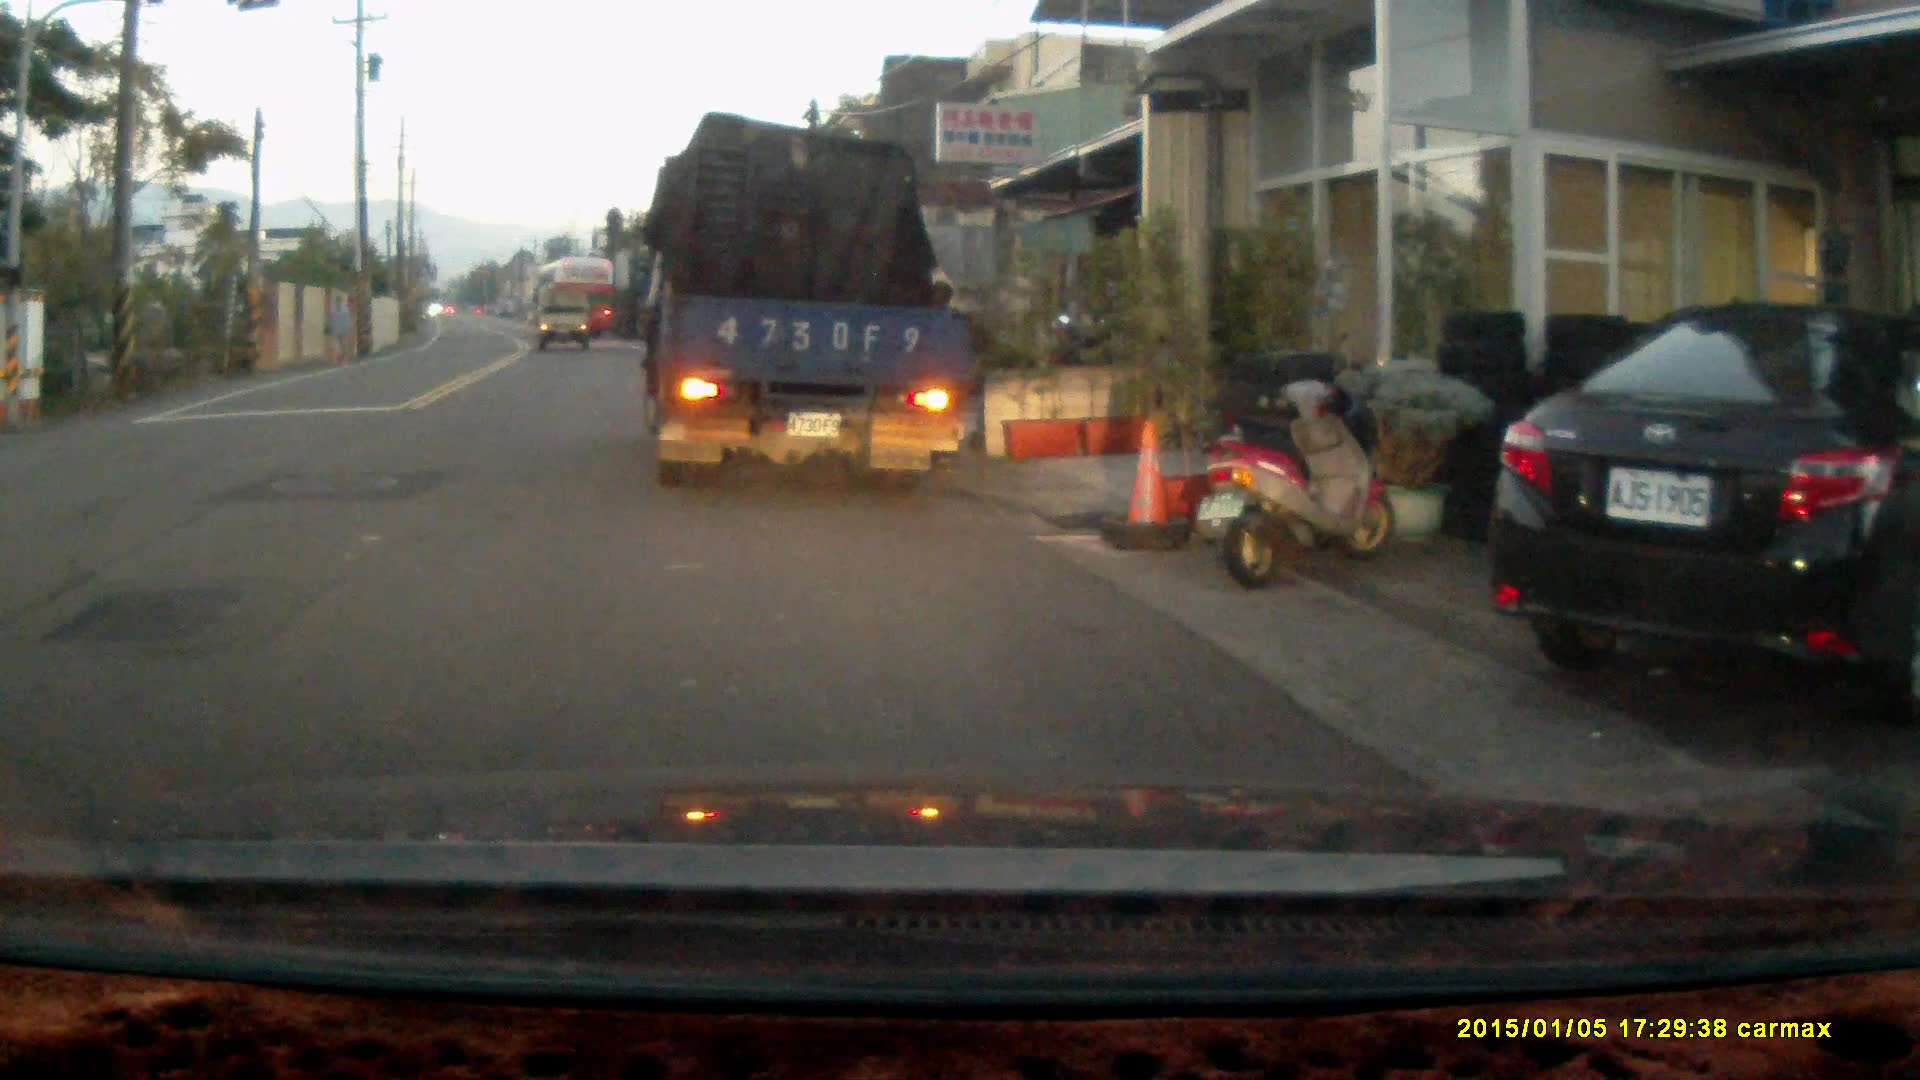pedestrian: (318, 291, 351, 363)
vehicle: (1491, 297, 1920, 722), (642, 122, 981, 498), (530, 254, 618, 338), (539, 285, 595, 356)
